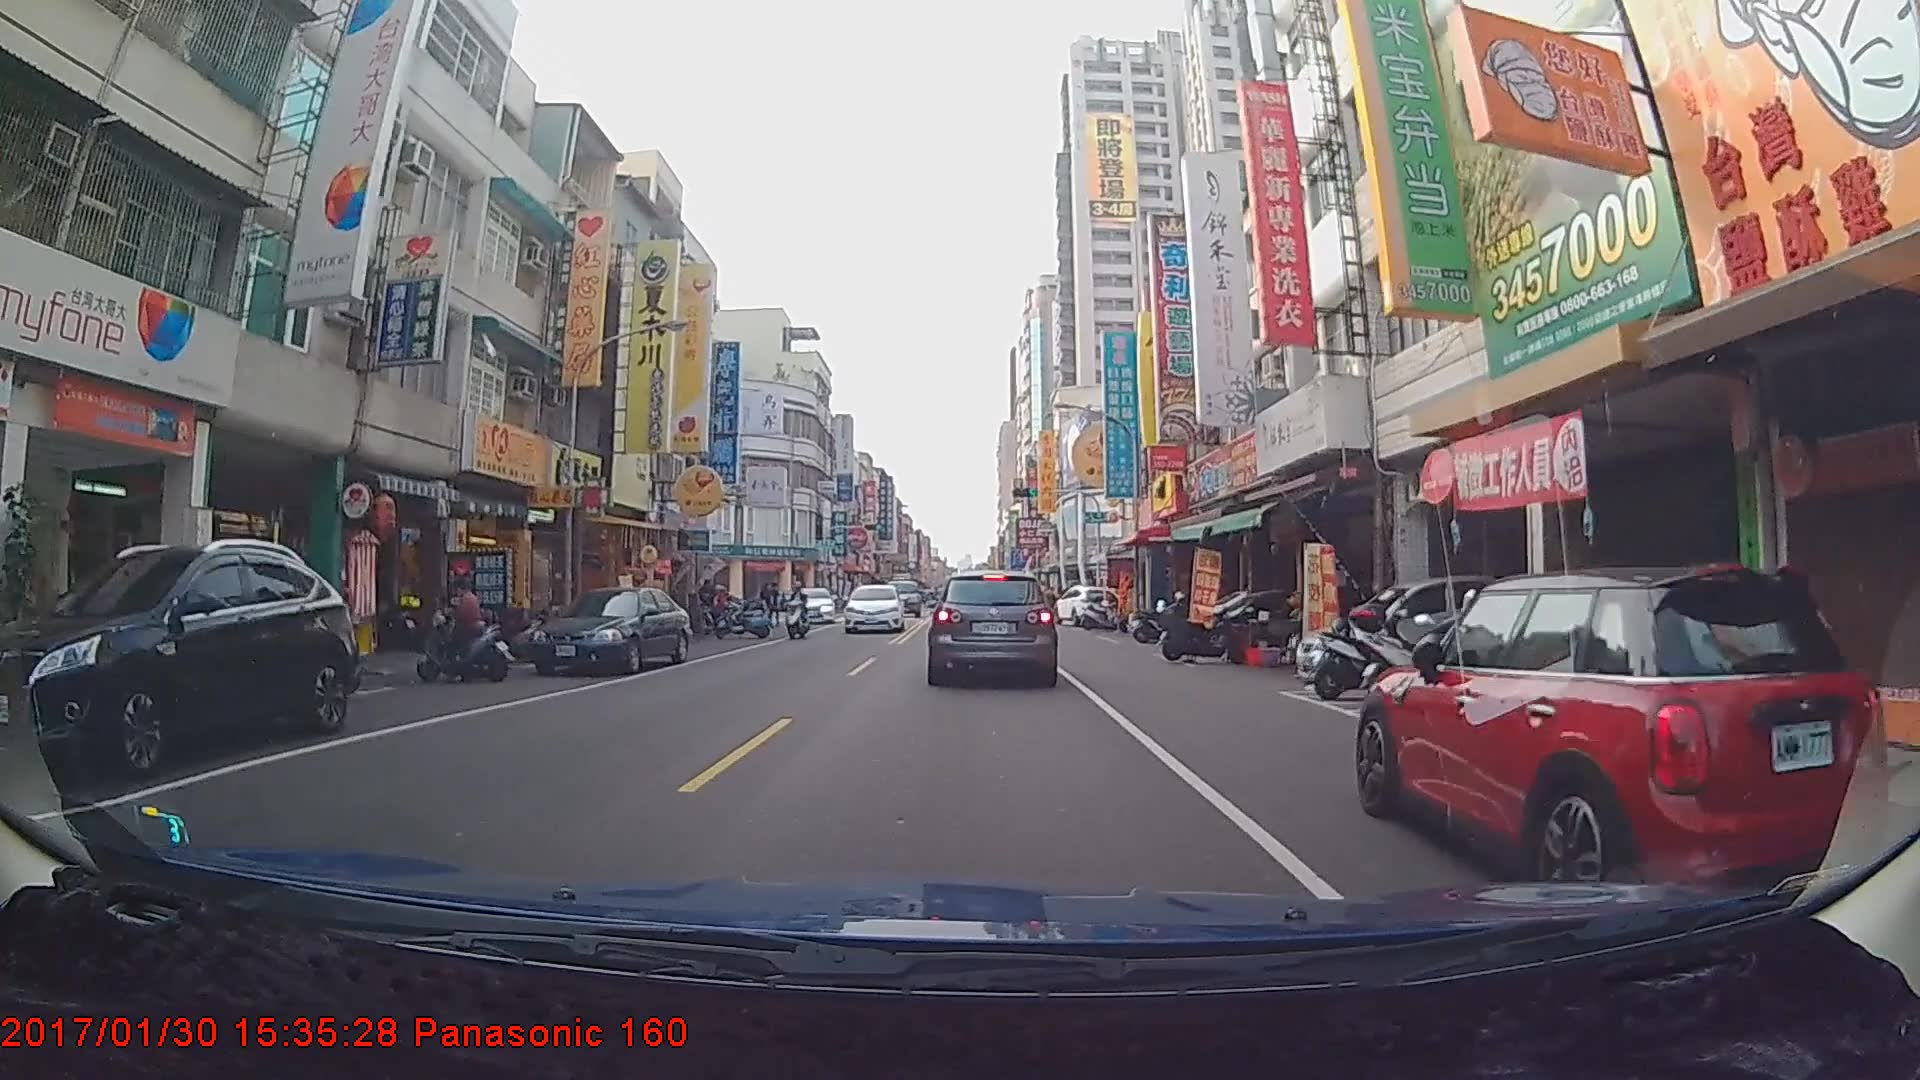rider: (410, 571, 525, 689), (781, 584, 810, 640)
vehicle: (1357, 563, 1885, 915), (0, 544, 352, 781), (931, 565, 1056, 683), (526, 588, 693, 672), (1053, 581, 1122, 627), (842, 583, 902, 633), (786, 581, 834, 619)
